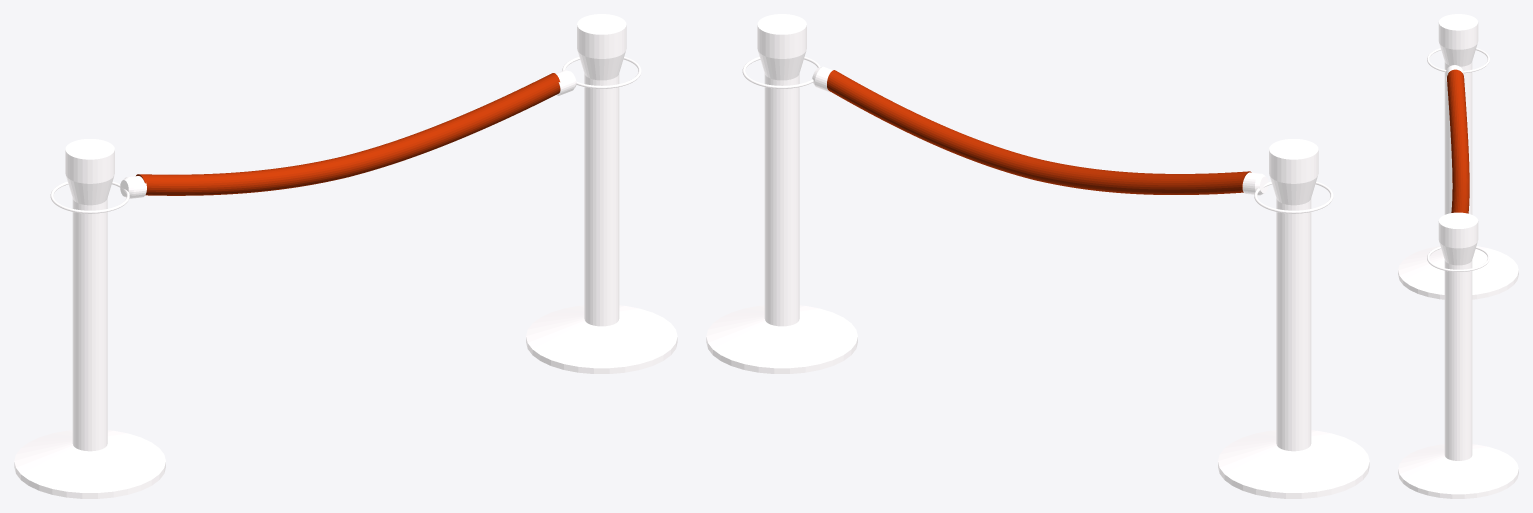
The model's file is fence.glb.
The picture shows the model from 3 angles, left to right: view 1: azimuth 30°, elevation 25°; view 2: azimuth 150°, elevation 25°; view 3: azimuth 270°, elevation 25°; orthographic projection. The views are drawn at different scales.
Parts seen in each view (by area): view 1: Cylinder.044; view 2: Cylinder.044; view 3: Cylinder.044.
Part boxes in pixels (<box>): Cylinder.044: <box>14,14,677,498</box>; Cylinder.044: <box>706,14,1369,498</box>; Cylinder.044: <box>1398,14,1518,498</box>.
Size of the model in its own units: 3.43 by 1.62 by 0.7017.
